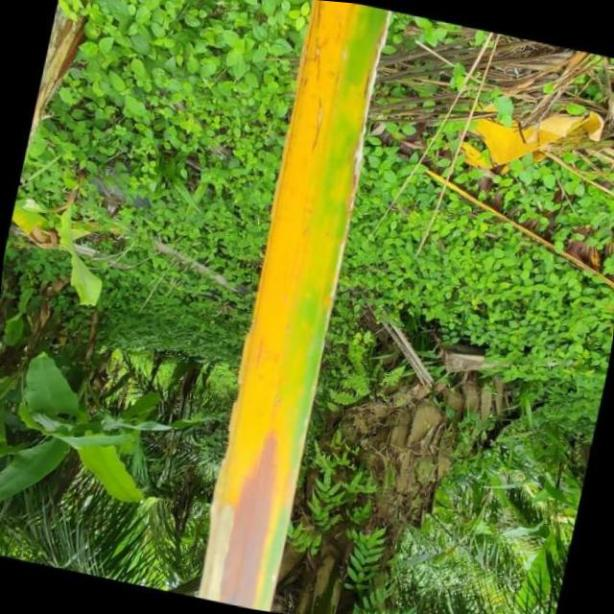Megnesium: (197, 0, 390, 614)
